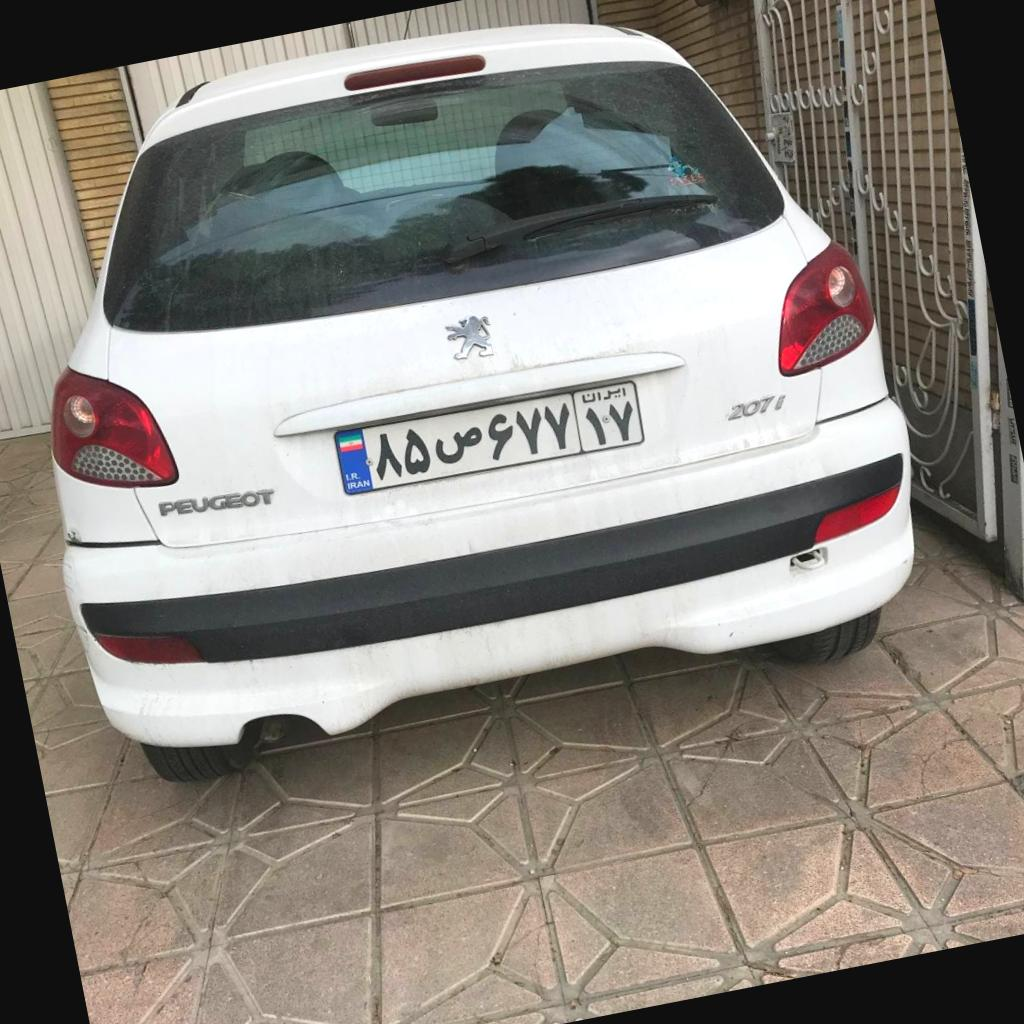Plates: (335, 380, 646, 496)
